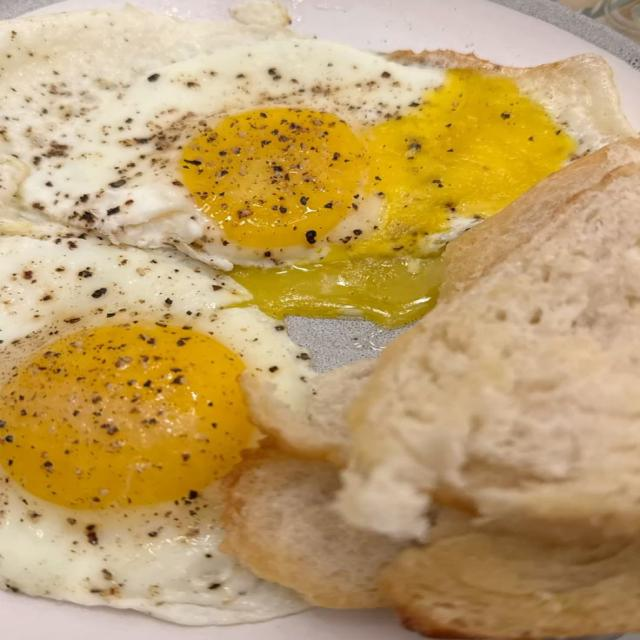fryed egg: (0, 9, 602, 324), (337, 142, 639, 639), (0, 237, 313, 624)
